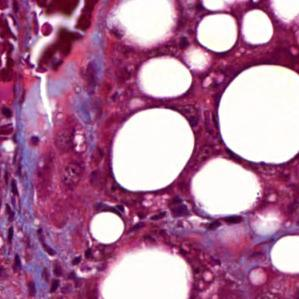steatosis: (109, 106, 199, 195), (196, 12, 240, 56), (87, 211, 131, 248)
